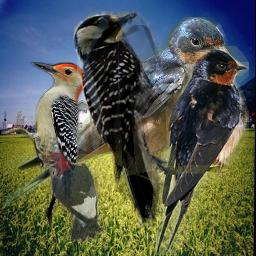Swallow: (3, 17, 232, 209), (151, 46, 249, 255)
Woodpecker: (72, 11, 180, 232), (1, 62, 85, 227), (40, 148, 106, 242)
